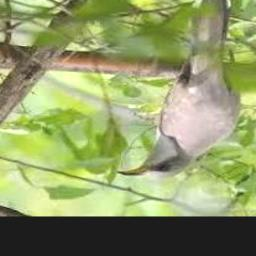Cuckoo: (117, 0, 240, 179)
